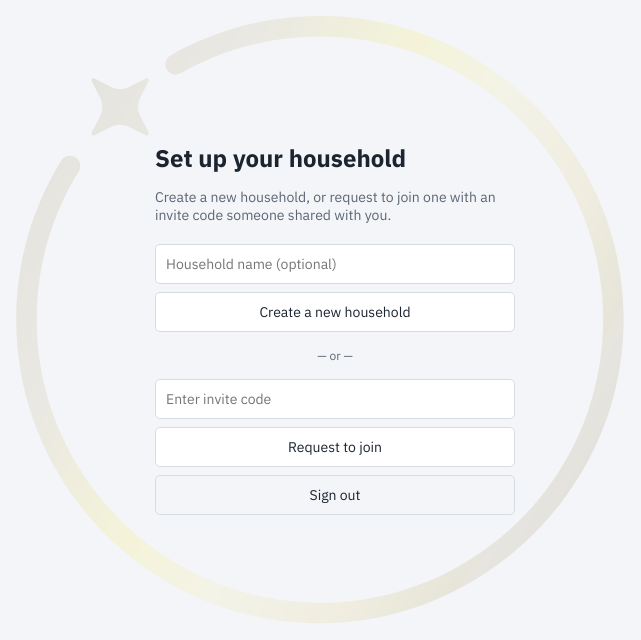
household setup › joining with a code waits for approval; a declined request can try another code
Expected: the heading "Set up your household" is shown, [155,142,406,174]
Type " b9fd74dd " into the field with placeholder "Enter invite code".
click(335, 400); type(" b9fd74dd ")  # box [155,380,515,420]
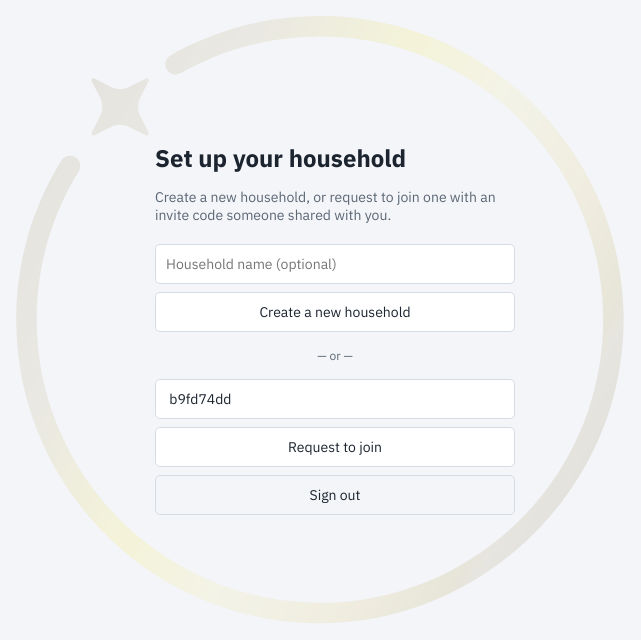
Click the button "Request to join".
click(335, 448)  # box [155,428,515,468]
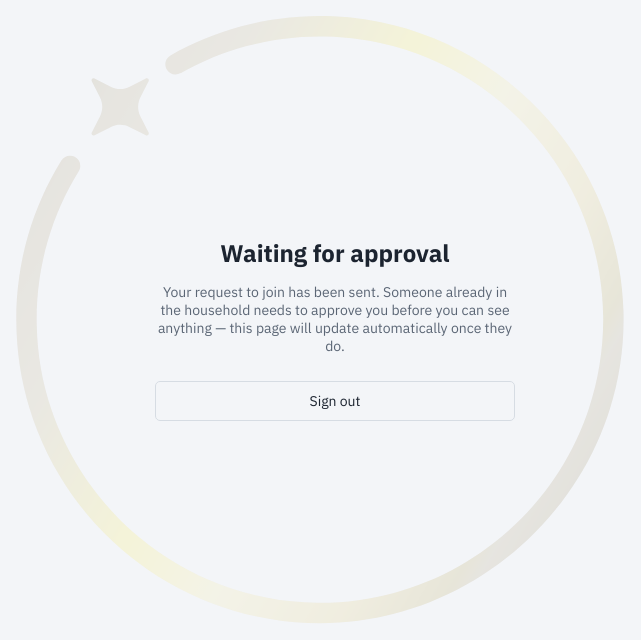
Expected: the heading "Waiting for approval" is shown, [220,237,450,269]
